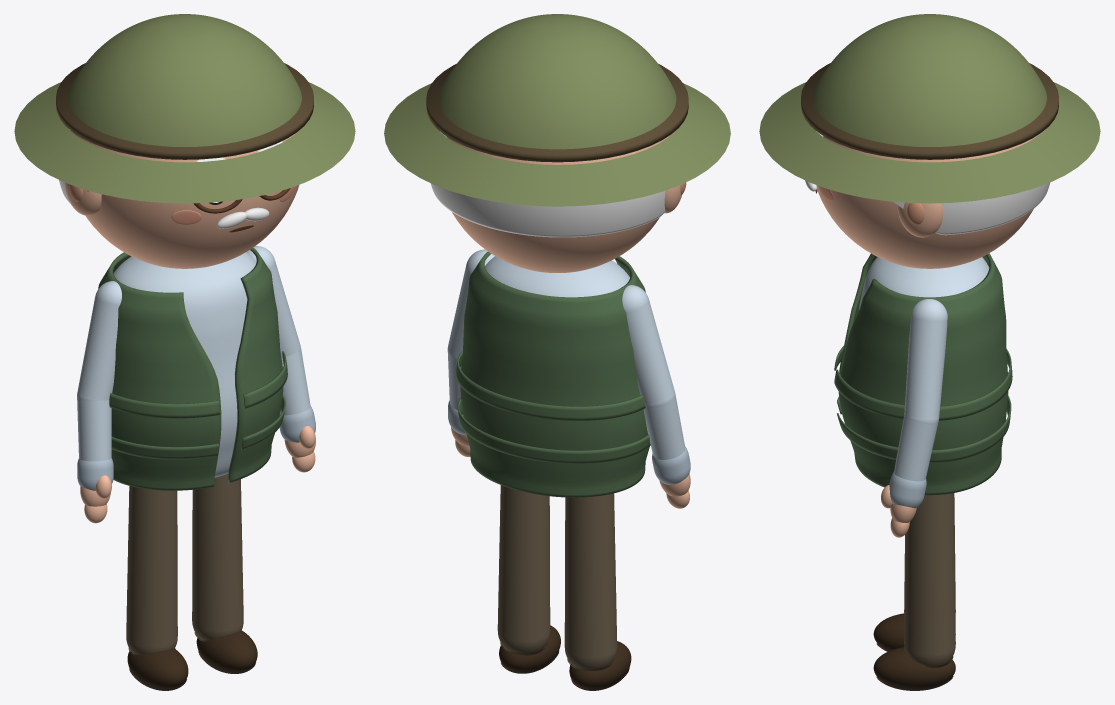
The model's file is opa_vissen.glb.
3 renders of one model, left to right at view 1: azimuth 30°, elevation 25°; view 2: azimuth 150°, elevation 25°; view 3: azimuth 270°, elevation 25°, orthographic.
Parts seen in each view (by area): view 1: opa_vissen_hesje, opa_vissen_vissershoed, opa_vissen_vissershoed_rand, opa_vissen_hoofd, opa_vissen_romp, opa_vissen_been_R, opa_vissen_been_L, opa_vissen_vissershoed_band, opa_vissen_bovenarm_R, opa_vissen_hesje_band1, opa_vissen_onderarm_R, opa_vissen_hesje_band0 (+7 smaller); view 2: opa_vissen_hesje, opa_vissen_vissershoed, opa_vissen_vissershoed_rand, opa_vissen_been_R, opa_vissen_been_L, opa_vissen_haar, opa_vissen_hoofd, opa_vissen_vissershoed_band, opa_vissen_romp, opa_vissen_bovenarm_R, opa_vissen_hesje_band1, opa_vissen_hesje_band0 (+5 smaller); view 3: opa_vissen_vissershoed, opa_vissen_hesje, opa_vissen_vissershoed_rand, opa_vissen_been_L, opa_vissen_hoofd, opa_vissen_vissershoed_band, opa_vissen_bovenarm_L, opa_vissen_romp, opa_vissen_haar, opa_vissen_hesje_band1, opa_vissen_schoen_L, opa_vissen_onderarm_L (+4 smaller).
Part boxes in pixels (box(x1,y1,x2,y2)): opa_vissen_hesje: box(98, 247, 283, 490); opa_vissen_vissershoed: box(68, 14, 301, 146); opa_vissen_vissershoed_rand: box(14, 82, 355, 203); opa_vissen_hoofd: box(70, 129, 300, 268); opa_vissen_romp: box(113, 252, 256, 477); opa_vissen_been_R: box(126, 486, 177, 654); opa_vissen_been_L: box(192, 473, 243, 640); opa_vissen_vissershoed_band: box(56, 63, 313, 159); opa_vissen_bovenarm_R: box(77, 281, 122, 400); opa_vissen_hesje_band1: box(109, 351, 287, 418); opa_vissen_onderarm_R: box(77, 396, 111, 461); opa_vissen_hesje_band0: box(111, 395, 285, 459); opa_vissen_hesje: box(460, 251, 649, 497); opa_vissen_vissershoed: box(438, 14, 676, 149); opa_vissen_vissershoed_rand: box(384, 83, 730, 206); opa_vissen_been_R: box(564, 493, 617, 669); opa_vissen_been_L: box(497, 485, 550, 652); opa_vissen_haar: box(430, 131, 665, 237); opa_vissen_hoofd: box(446, 131, 674, 272); opa_vissen_vissershoed_band: box(426, 64, 688, 162); opa_vissen_romp: box(485, 256, 629, 297); opa_vissen_bovenarm_R: box(620, 285, 674, 407); opa_vissen_hesje_band1: box(456, 351, 645, 420); opa_vissen_hesje_band0: box(457, 397, 650, 463); opa_vissen_vissershoed: box(813, 14, 1046, 146); opa_vissen_hesje: box(838, 253, 1008, 495); opa_vissen_vissershoed_rand: box(759, 82, 1100, 203); opa_vissen_been_L: box(904, 493, 955, 666); opa_vissen_hoofd: box(814, 129, 1037, 268); opa_vissen_vissershoed_band: box(801, 63, 1058, 159); opa_vissen_bovenarm_L: box(904, 299, 947, 423); opa_vissen_romp: box(858, 257, 989, 310); opa_vissen_haar: box(893, 129, 1049, 235); opa_vissen_hesje_band1: box(834, 346, 1012, 420); opa_vissen_schoen_L: box(873, 647, 955, 687); opa_vissen_onderarm_L: box(894, 415, 938, 481).
Bounding box in the file's own units: 0.852 × 1.78 × 0.852.
